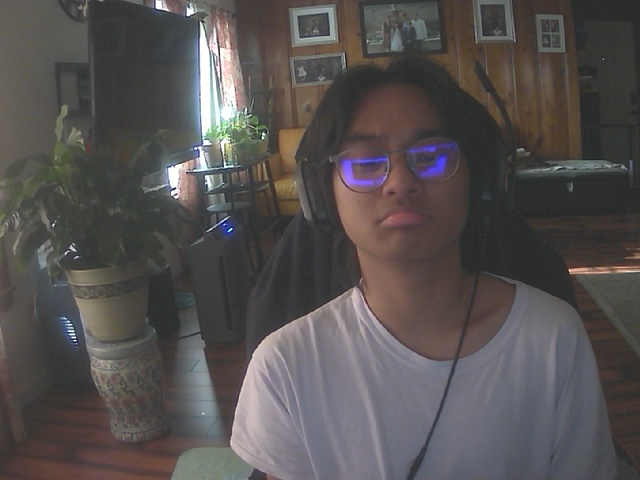sad: (326, 76, 483, 262)
